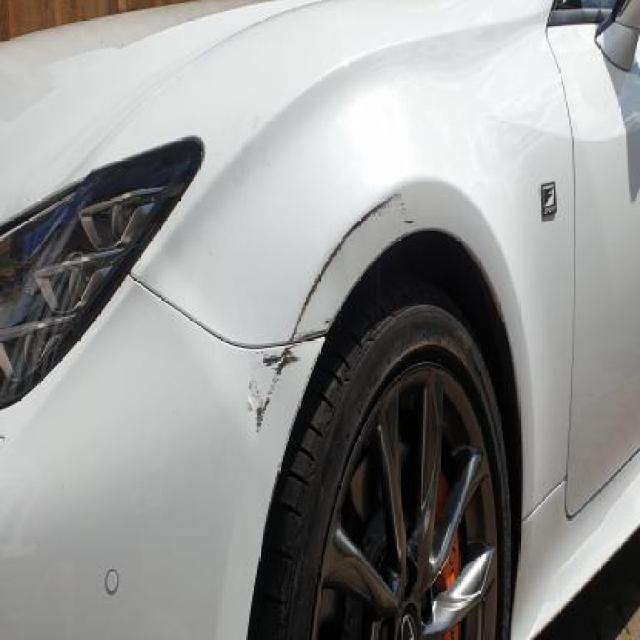scratch: (240, 185, 418, 446)
